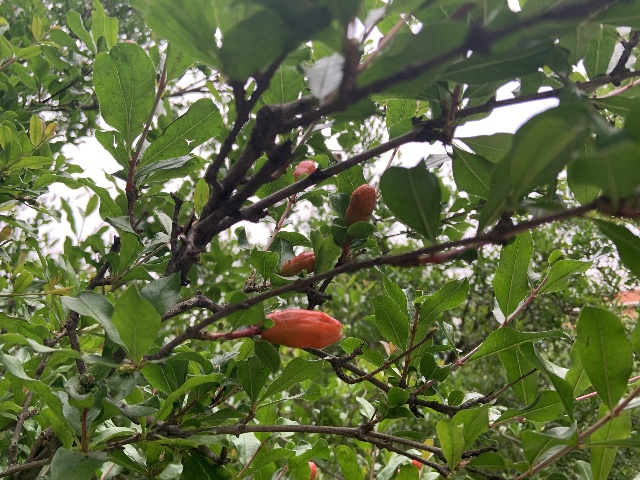bud: (260, 307, 343, 349), (345, 183, 376, 228), (279, 251, 315, 277), (293, 160, 316, 183), (307, 461, 316, 480)
